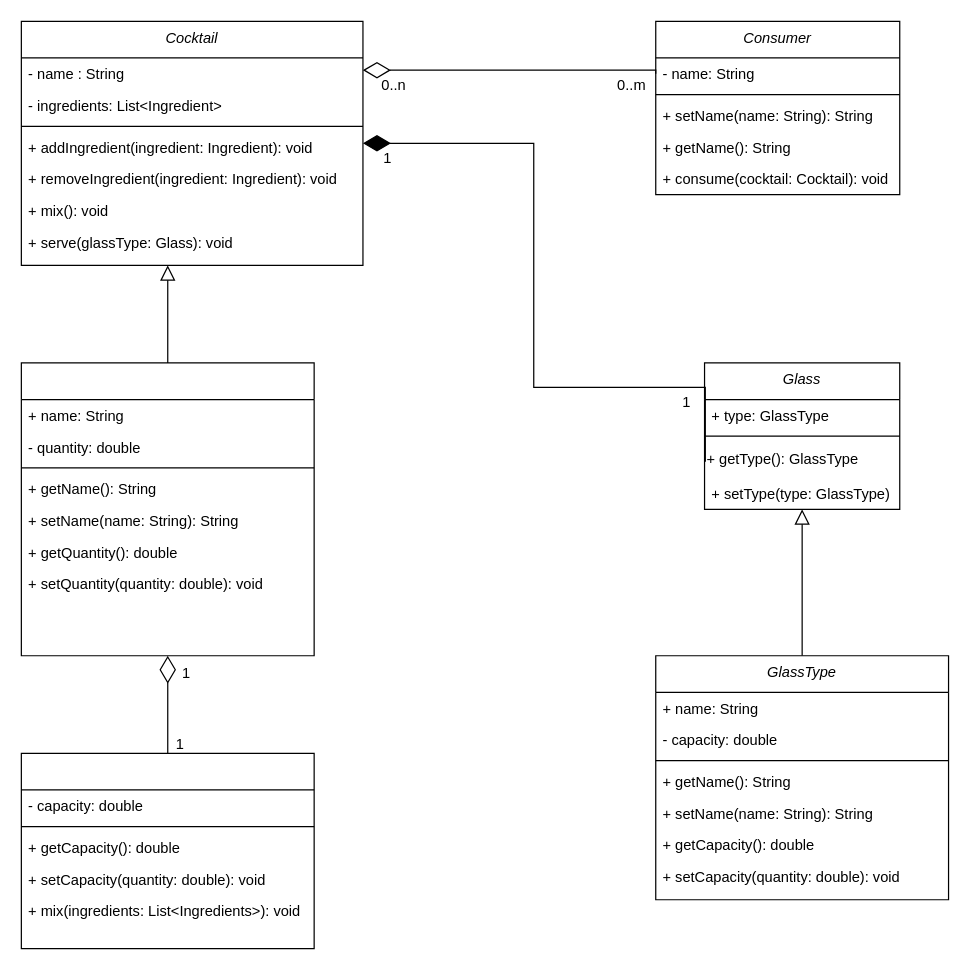
This 970x970 diagram has some shape labels left out. Each missing label, with the box of its shape:
Ingredient: (20, 362, 314, 656)
Mixer: (20, 752, 314, 949)
